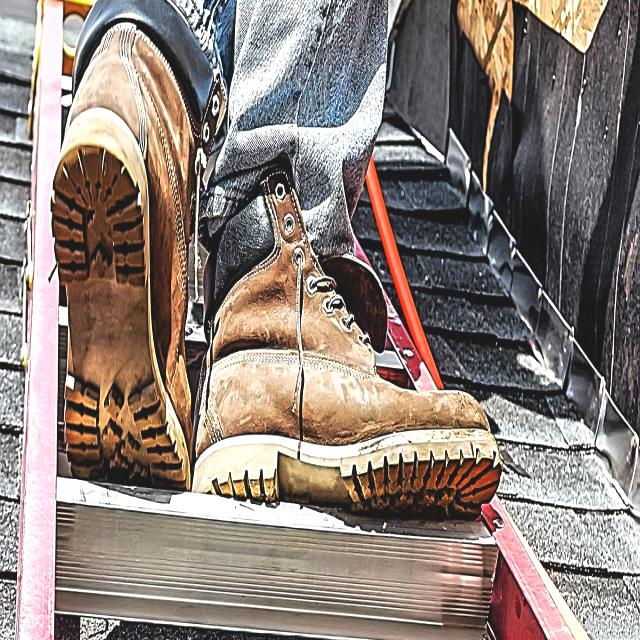Boots: (49, 1, 507, 518)
